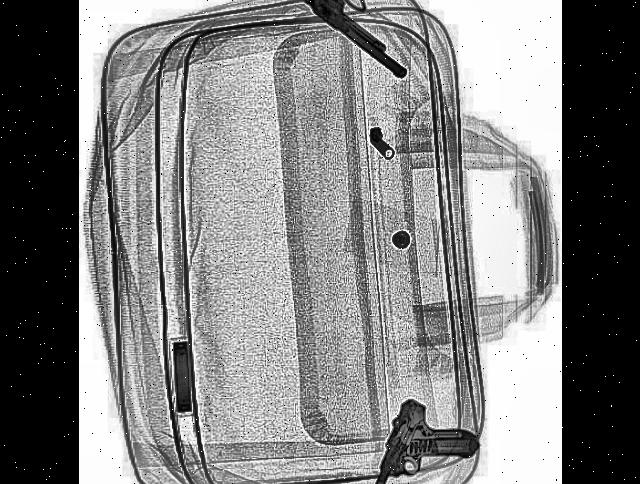Gun: (362, 383, 480, 484), (271, 0, 422, 78)
